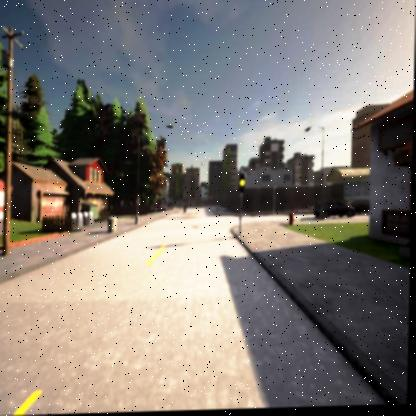vehicle: (313, 202, 357, 221)
